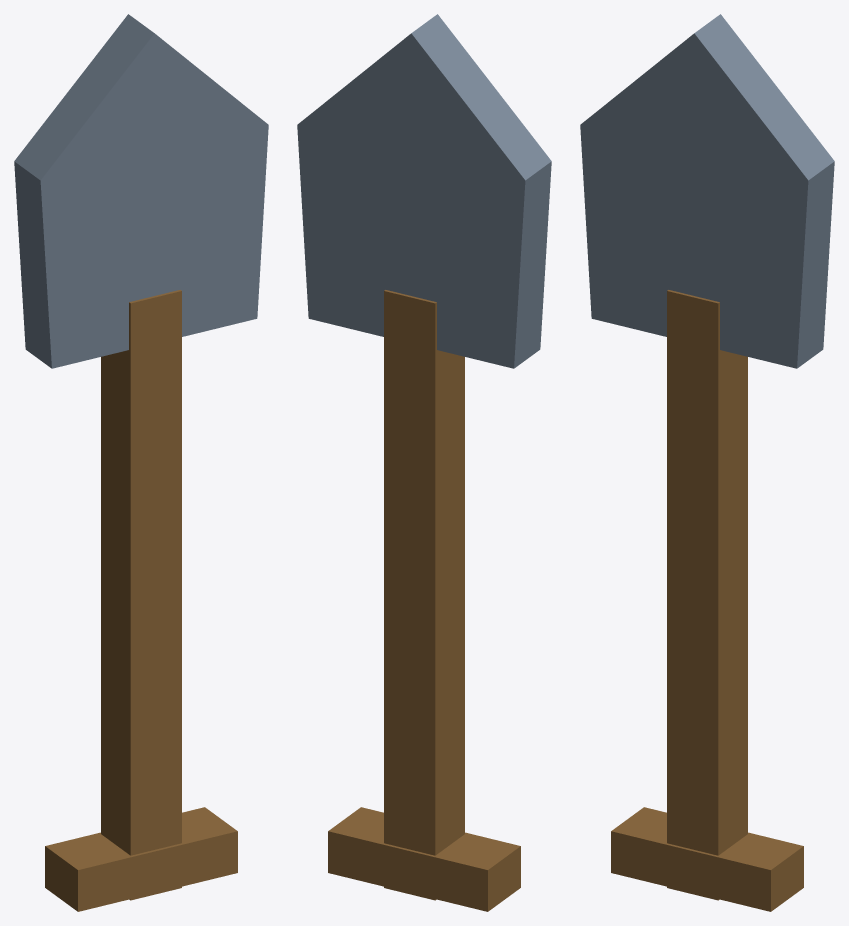
File: shovel_iron.fbx
3 renders of one model, left to right at view 1: azimuth 30°, elevation 25°; view 2: azimuth 150°, elevation 25°; view 3: azimuth 330°, elevation 25°, orthographic.
Visible parts, largest first — view 1: shovel_iron; view 2: shovel_iron; view 3: shovel_iron.
Part boxes in pixels (left/top/right/bottom): shovel_iron: left=14, top=14, right=268, bottom=911; shovel_iron: left=297, top=14, right=551, bottom=911; shovel_iron: left=580, top=14, right=834, bottom=911.
Size of the model in its own units: 0.6 by 2.16 by 0.15.
